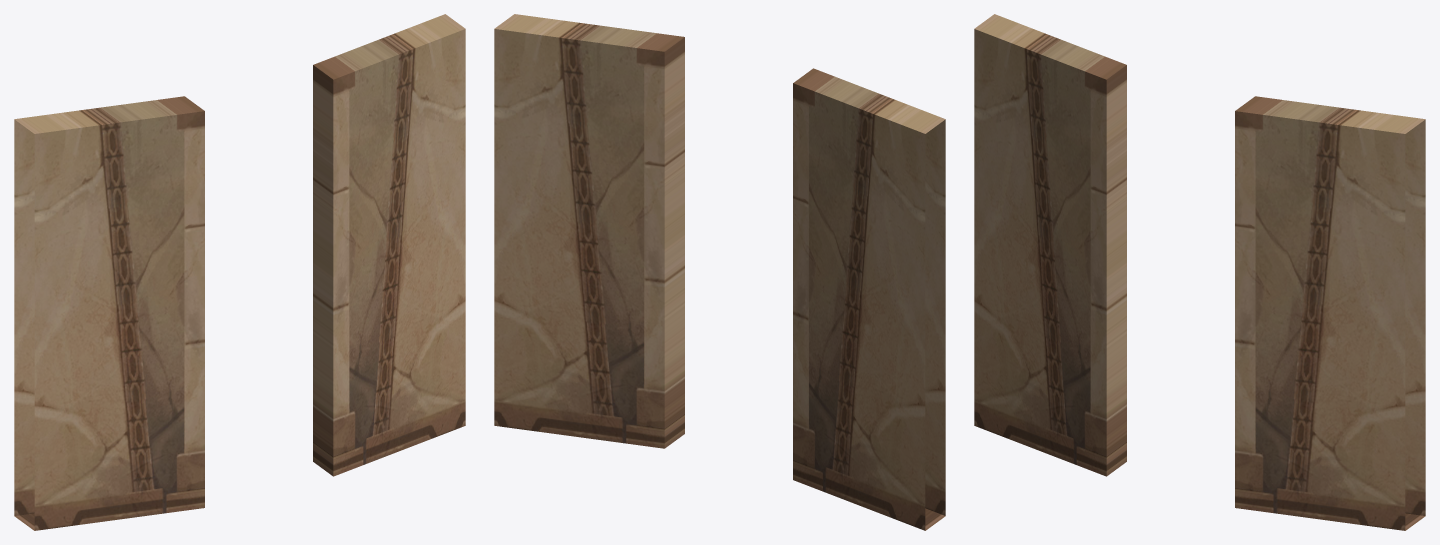
Rendered from Front_wall_03.glb.
The picture shows the model from 3 angles, left to right: view 1: azimuth 30°, elevation 25°; view 2: azimuth 150°, elevation 25°; view 3: azimuth 330°, elevation 25°; orthographic projection.
Parts seen in each view (by area): view 1: Front_wall_03; view 2: Front_wall_03; view 3: Front_wall_03.
Boxes of the visible parts, left/top/right/bottom form: Front_wall_03: left=14, top=14, right=465, bottom=530; Front_wall_03: left=494, top=14, right=945, bottom=530; Front_wall_03: left=974, top=14, right=1425, bottom=530.
Size of the model in its own units: 29.82 by 26.23 by 4.71.
1 material, 1 textured.
